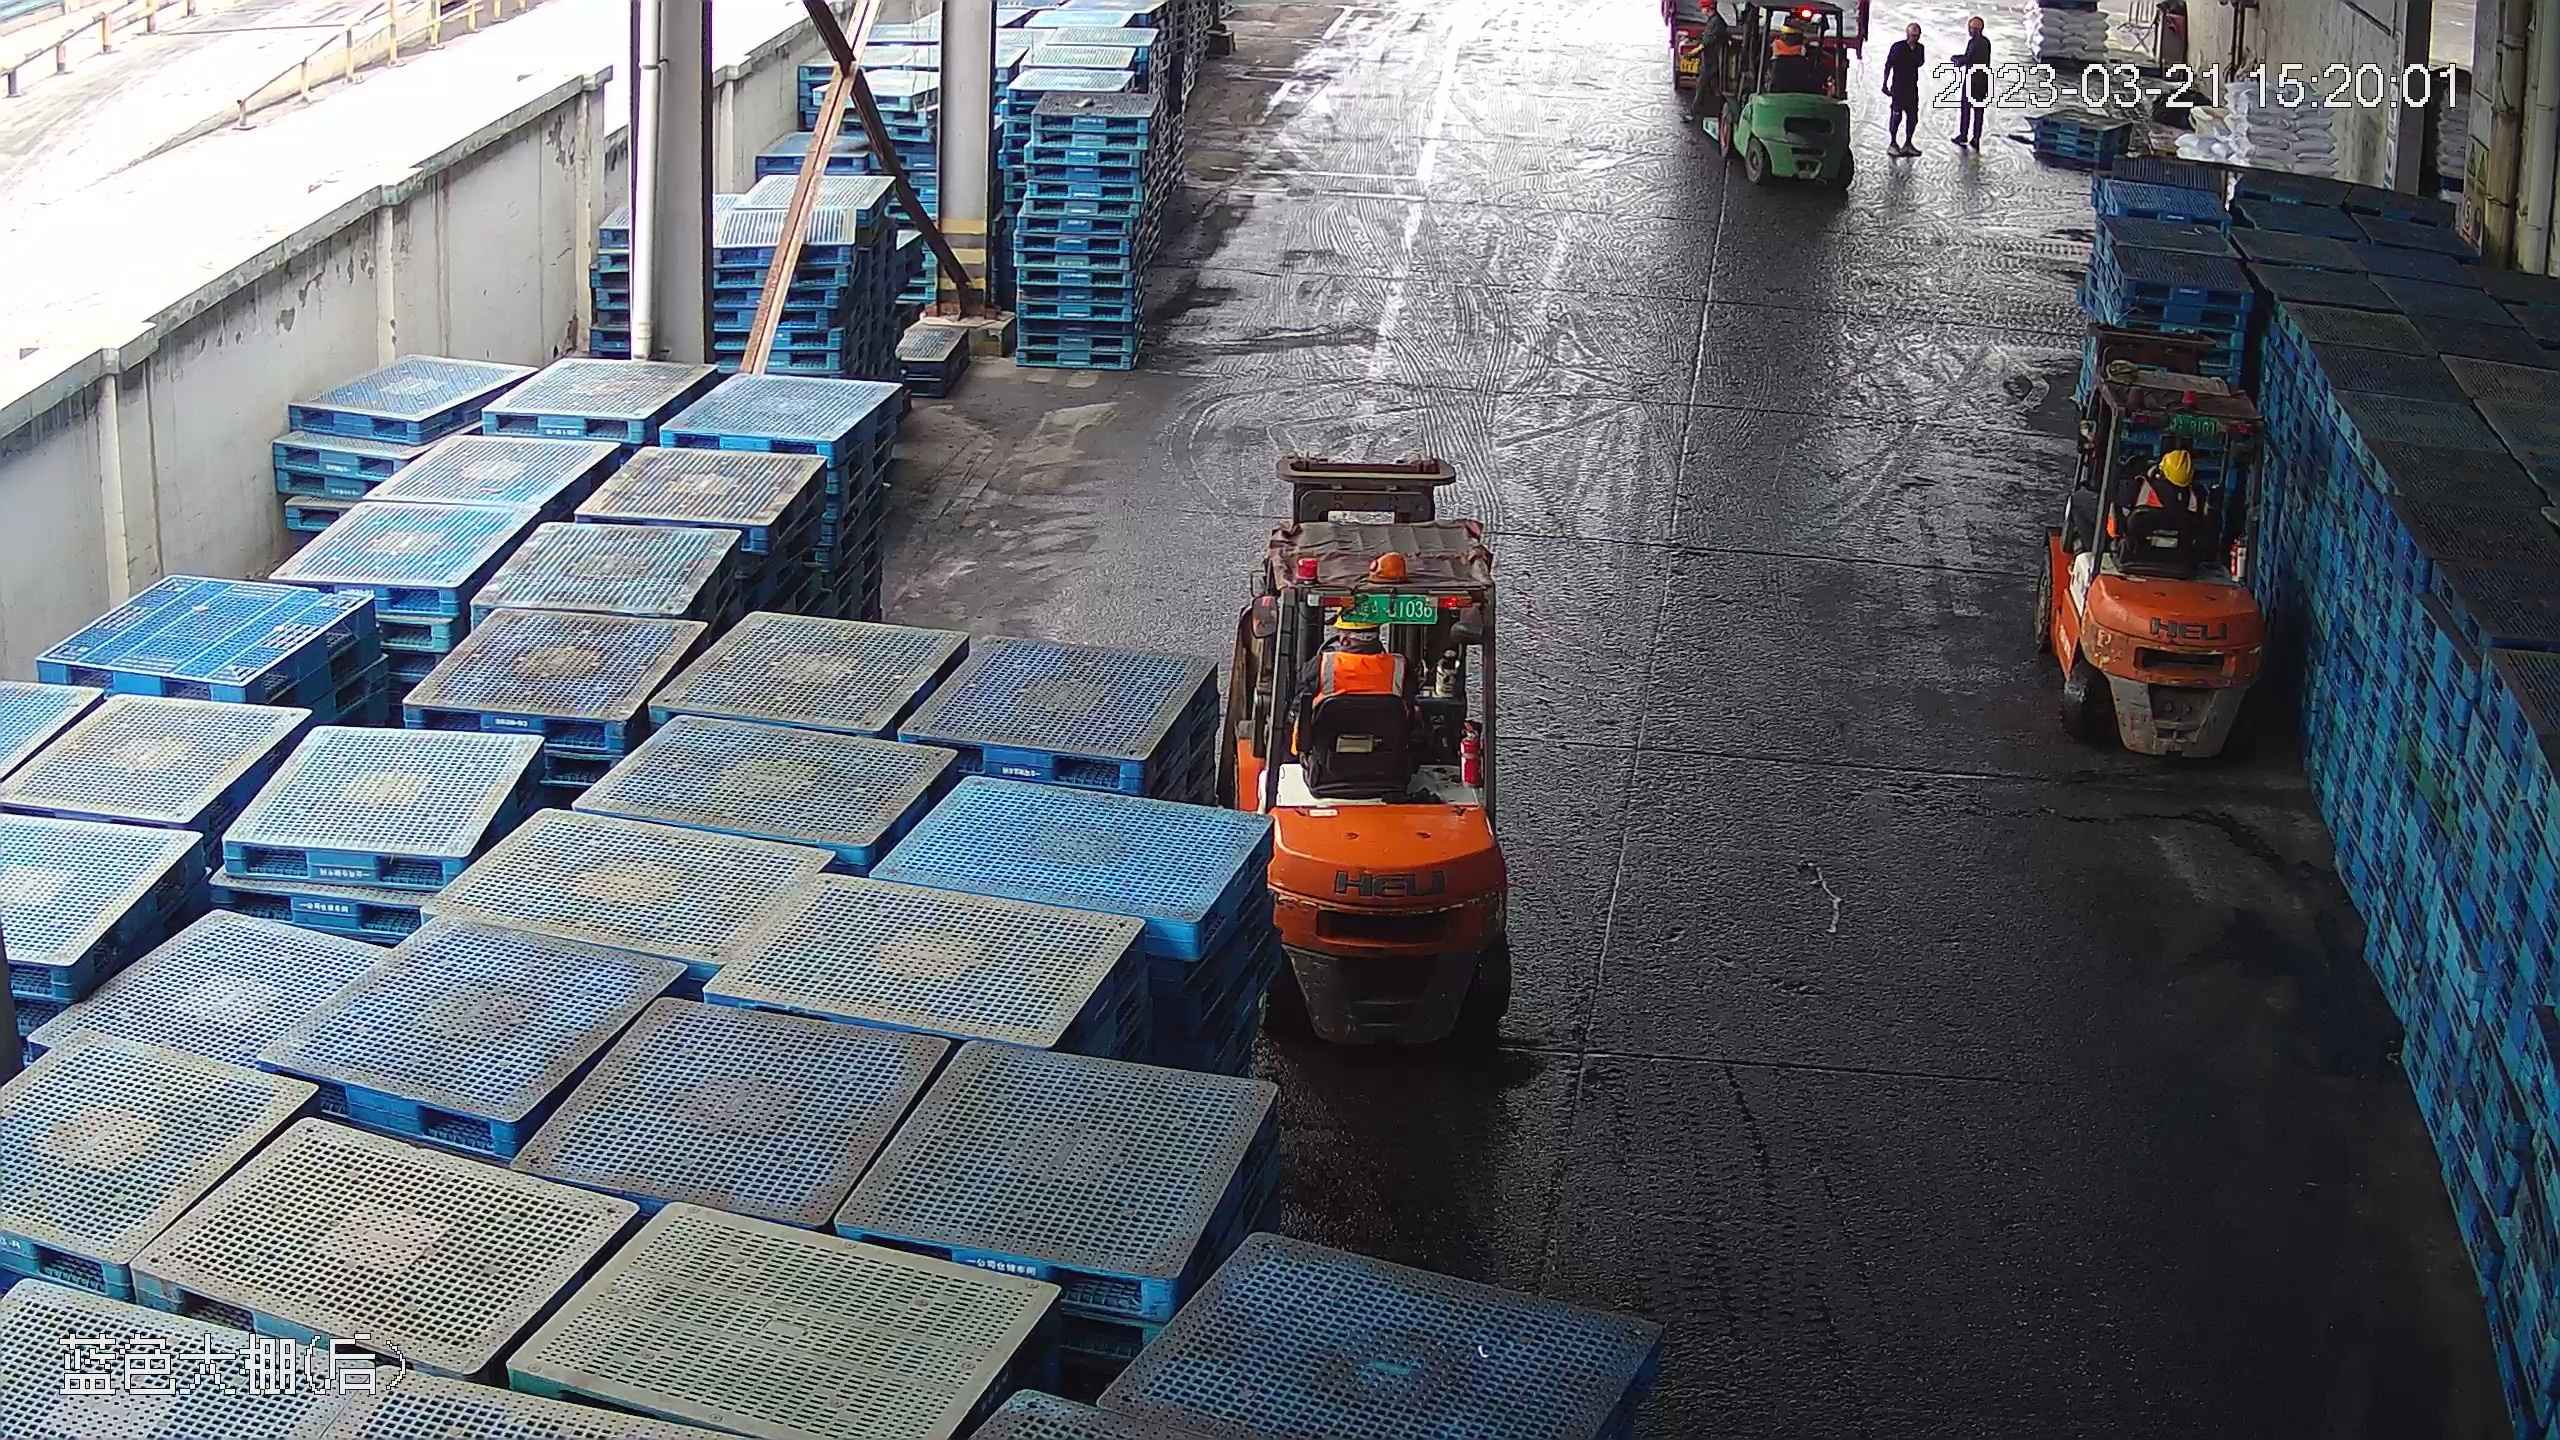head: (1886, 14, 1925, 61), (1958, 11, 1993, 58)
helmet: (2160, 446, 2194, 489), (1897, 13, 1925, 36), (1963, 14, 1989, 35)
people: (1950, 12, 1995, 161), (1881, 12, 1926, 161)
